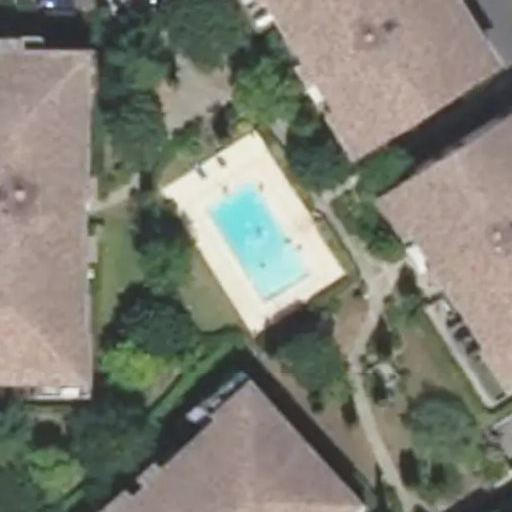pool: (199, 208, 313, 275)
